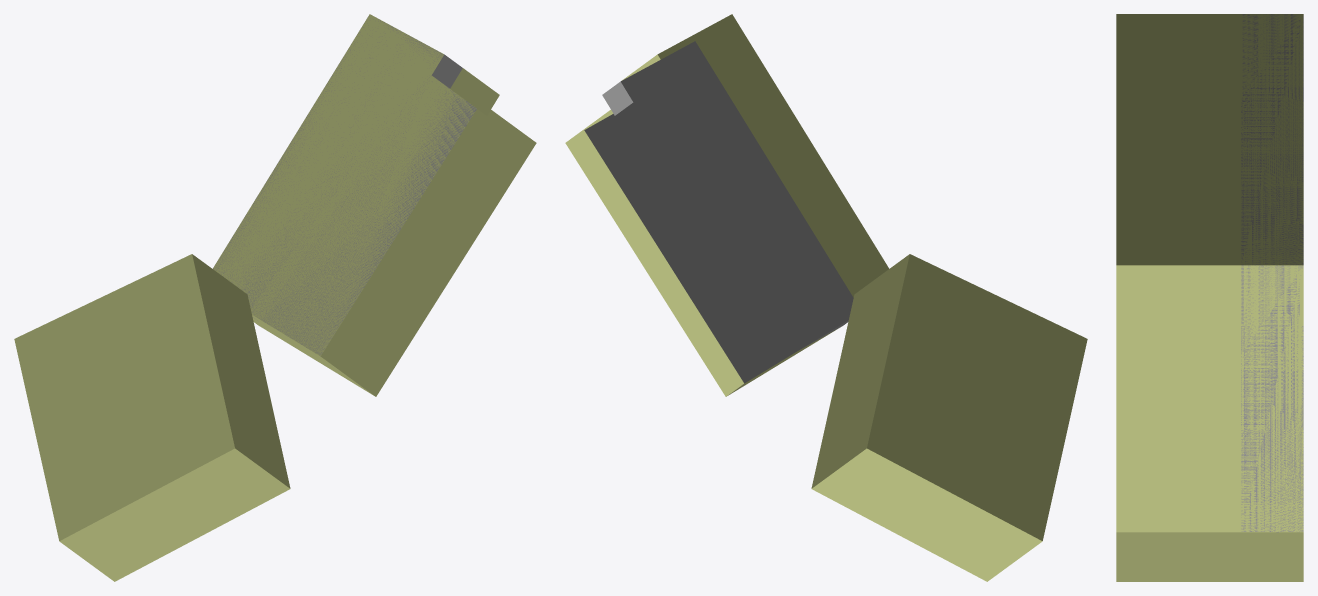
3 views of the same model, side by side, from view 1: azimuth 30°, elevation 25°; view 2: azimuth 150°, elevation 25°; view 3: azimuth 270°, elevation 25° (orthographic). The views are drawn at different scales.
Parts seen in each view (by area): view 1: 0_1_0_0_3_0_2; view 2: 0_1_0_0_3_0_2; view 3: 0_1_0_0_3_0_2.
Part boxes in pixels (<box>): 0_1_0_0_3_0_2: <box>14,14,536,581</box>; 0_1_0_0_3_0_2: <box>565,14,1087,581</box>; 0_1_0_0_3_0_2: <box>1116,14,1303,581</box>.
Bounding box in the file's own units: 43.76 × 40.44 × 9.
